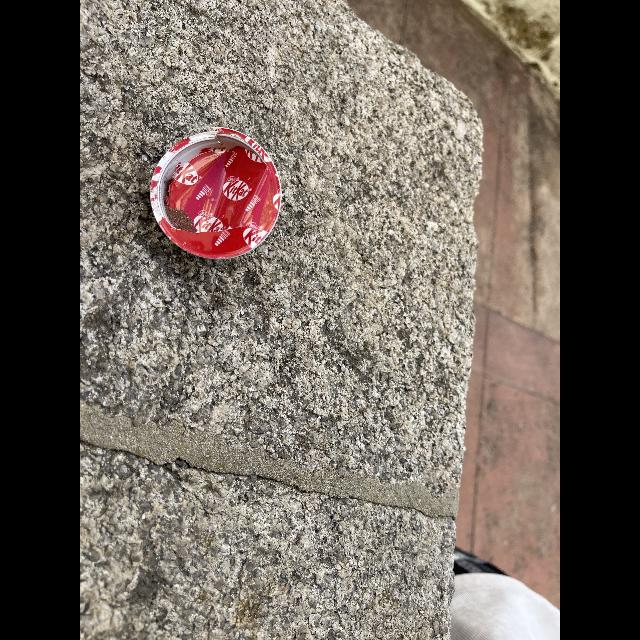damaged_capsule: (133, 115, 294, 267)
